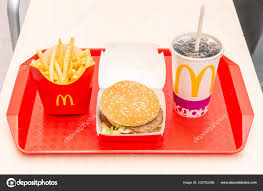coke: (165, 3, 232, 138)
